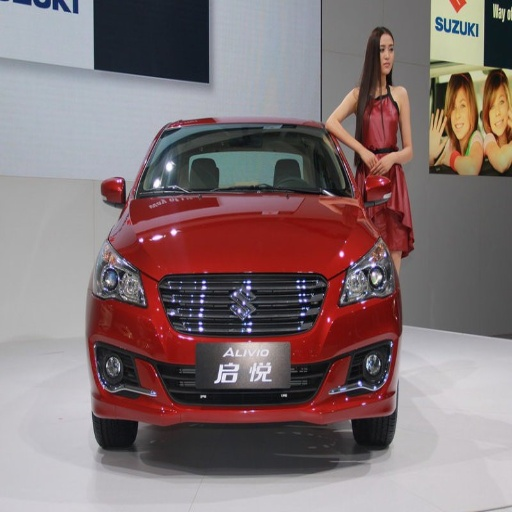front_bumper: (87, 271, 398, 424)
front_right_light: (91, 242, 148, 307)
hood: (110, 194, 376, 276)
